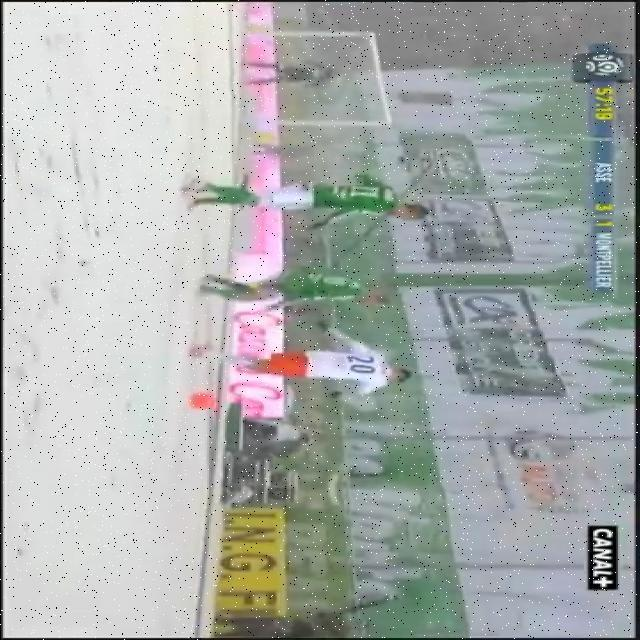ball: (190, 393, 228, 411)
goalkeeper: (233, 53, 355, 102)
player: (151, 159, 452, 221), (178, 262, 424, 324), (184, 337, 441, 383)
